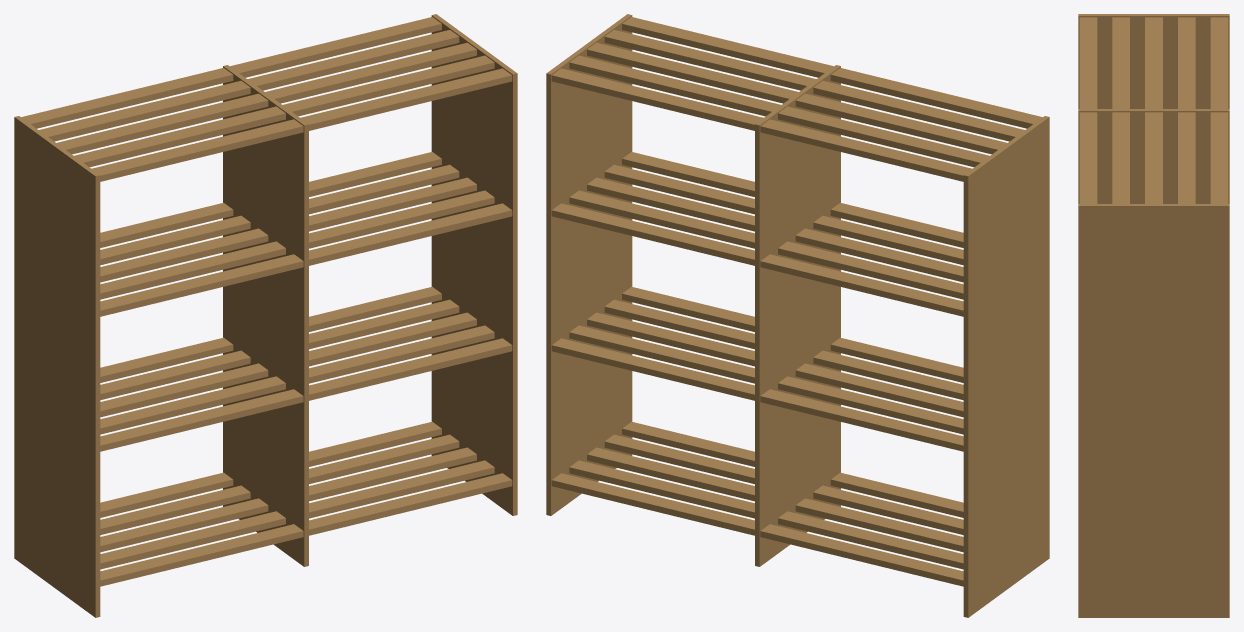
File: parametric-rack-2nd-pub.glb
The picture shows the model from 3 angles, left to right: view 1: azimuth 30°, elevation 25°; view 2: azimuth 150°, elevation 25°; view 3: azimuth 270°, elevation 25°; orthographic projection. The views are drawn at different scales.
Parts seen in each view (by area): view 1: parametric-rack-2nd-pub; view 2: parametric-rack-2nd-pub; view 3: parametric-rack-2nd-pub.
Boxes of the visible parts, left/top/right/bottom form: parametric-rack-2nd-pub: left=14, top=14, right=517, bottom=617; parametric-rack-2nd-pub: left=546, top=14, right=1049, bottom=617; parametric-rack-2nd-pub: left=1078, top=14, right=1229, bottom=617.
Size of the model in its own units: 1.8 by 1.8 by 0.6.
